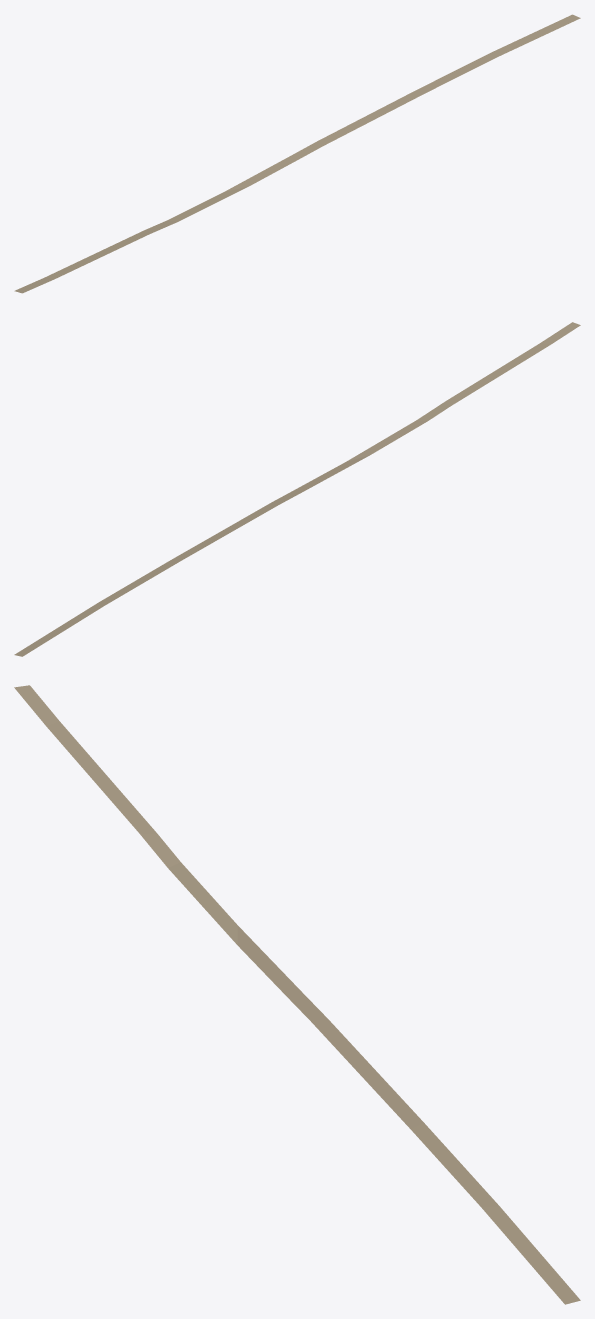
The model's file is farm_20_21_track.glb.
The picture shows the model from 3 angles, top to bottom: view 1: azimuth 30°, elevation 25°; view 2: azimuth 210°, elevation 25°; view 3: azimuth 270°, elevation 25°; orthographic projection. The views are drawn at different scales.
Parts seen in each view (by area): view 1: geometry_0; view 2: geometry_0; view 3: geometry_0.
Boxes of the visible parts, x1,y1,x2,y2 form: geometry_0: (14, 14, 580, 293); geometry_0: (14, 322, 580, 656); geometry_0: (14, 685, 580, 1304).
Size of the model in its own units: 259 by 9.71 by 108.
